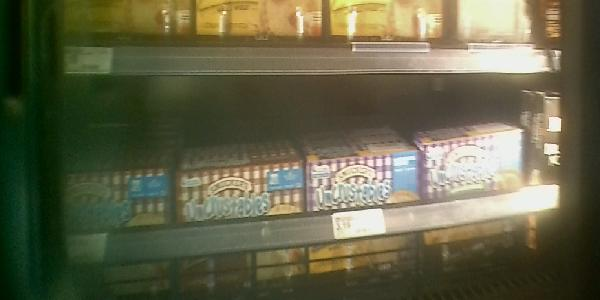icecream: (49, 161, 177, 237), (171, 160, 308, 228), (421, 126, 542, 202), (308, 148, 421, 212)
